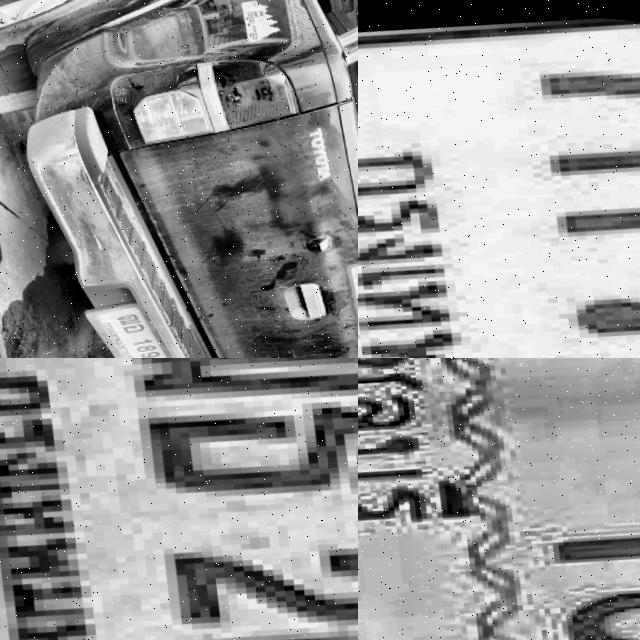license-plate: (358, 0, 640, 358), (0, 358, 358, 640), (358, 358, 640, 640), (81, 287, 180, 358)
